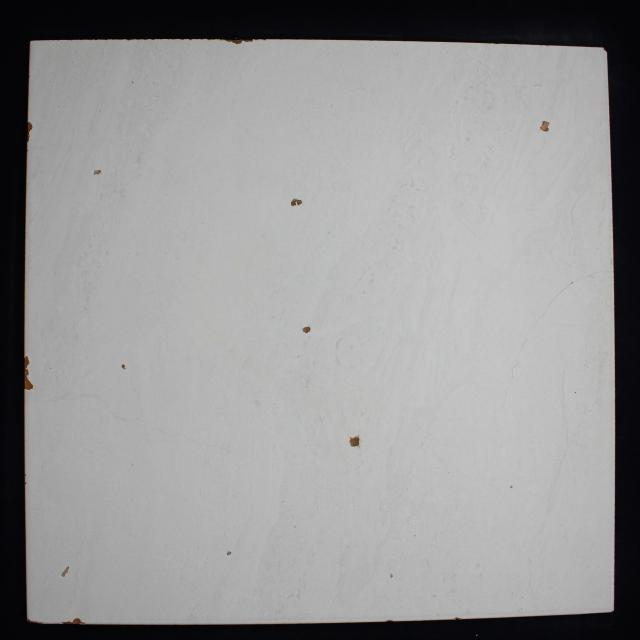edge-chipping: (24, 377, 34, 390), (27, 618, 44, 624), (223, 39, 243, 44), (72, 618, 86, 624), (24, 356, 30, 367), (27, 121, 33, 131), (26, 132, 31, 142), (243, 38, 254, 42), (24, 368, 29, 376), (62, 620, 72, 624), (453, 617, 462, 620), (386, 619, 393, 622), (603, 48, 607, 52)
hole: (349, 436, 360, 447), (290, 198, 303, 207), (60, 566, 70, 577), (540, 121, 550, 132), (302, 326, 312, 334), (93, 169, 101, 175), (121, 364, 126, 370), (226, 551, 232, 556), (389, 573, 394, 578)
line: (511, 337, 528, 378), (540, 298, 556, 319), (556, 284, 571, 297), (588, 271, 614, 277)
